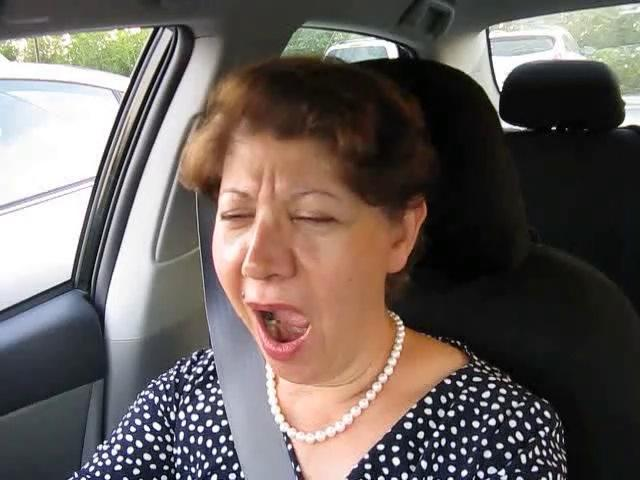close_eyeL: (209, 193, 267, 237)
close_eyeR: (274, 194, 353, 243)
yawn: (236, 293, 326, 363)
